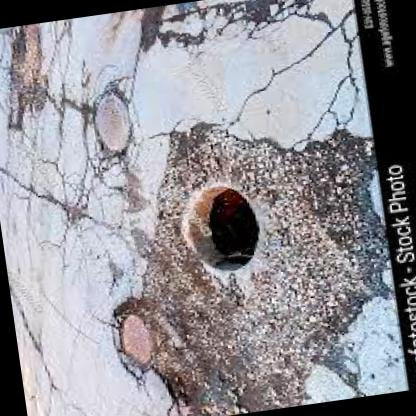manholes: (174, 171, 269, 282), (81, 79, 146, 164), (106, 298, 169, 376), (0, 19, 61, 92)
